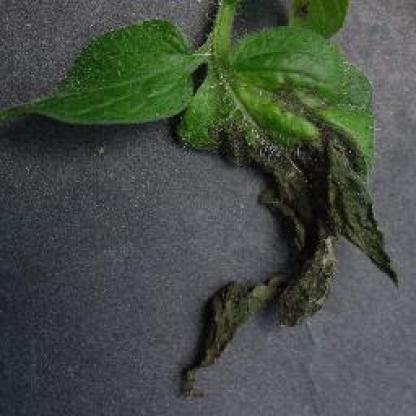bad leaf: (271, 40, 398, 344), (8, 32, 362, 105), (155, 67, 309, 182), (165, 277, 265, 390), (288, 0, 363, 54)
